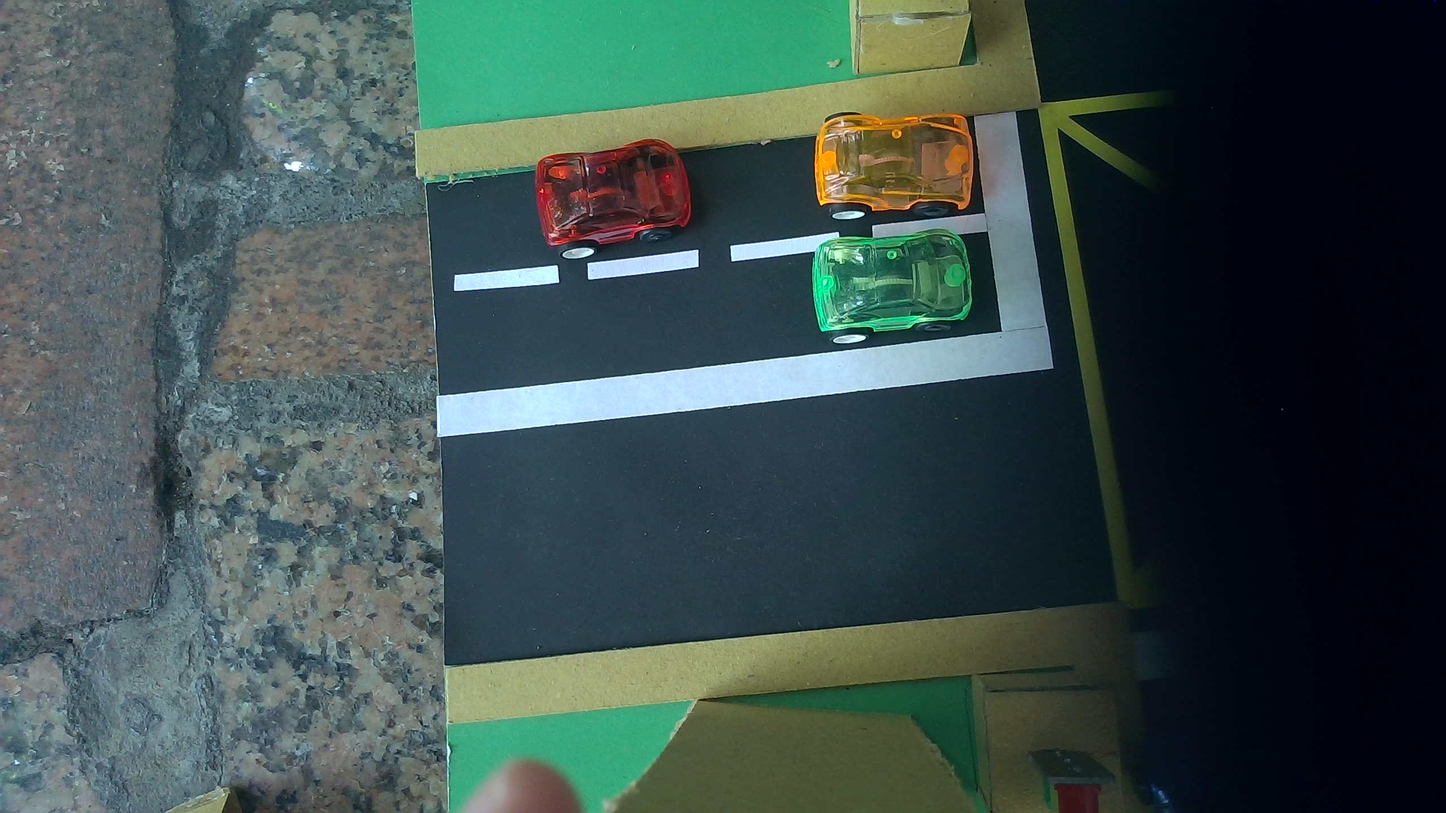Mobil hijau: (812, 229, 972, 343)
Mobil merah: (535, 139, 691, 259)
Mobil orange: (814, 112, 975, 218)
